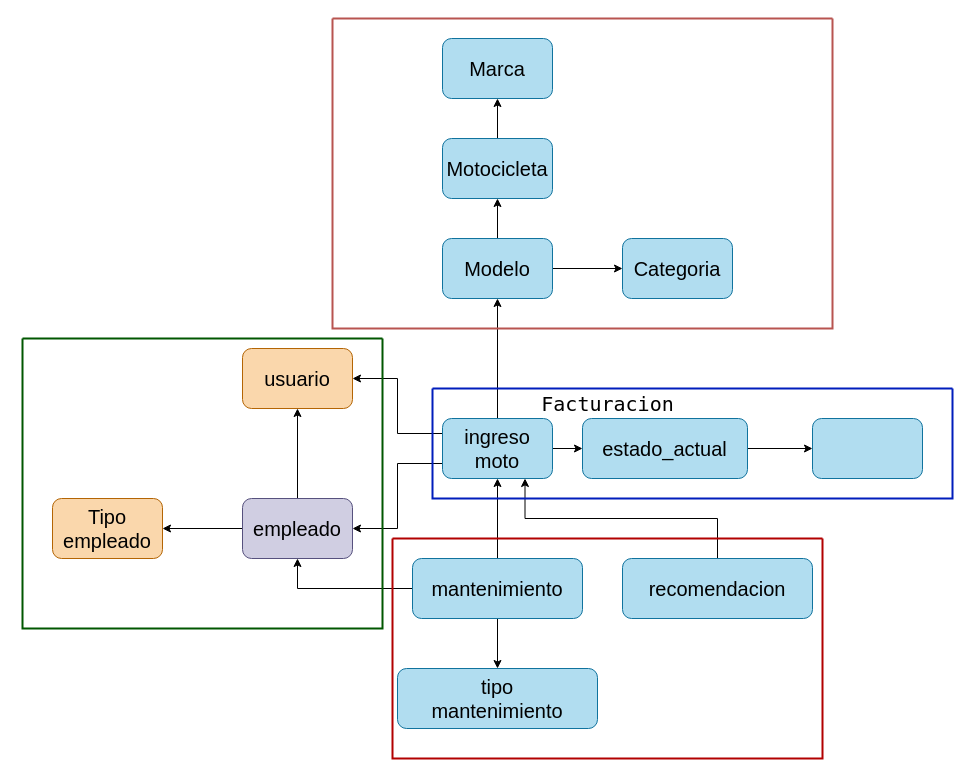
The diagram is 970 pixels wide and 776 high, and some of its shapes have lost their labels. The centre of each missing label's shape, as x and y in pixels:
"Catalogo" belongs at point 582,173.
"estado" belongs at point 867,448.
"Taller" belongs at point 607,648.
"Usuarios" belongs at point 202,483.
